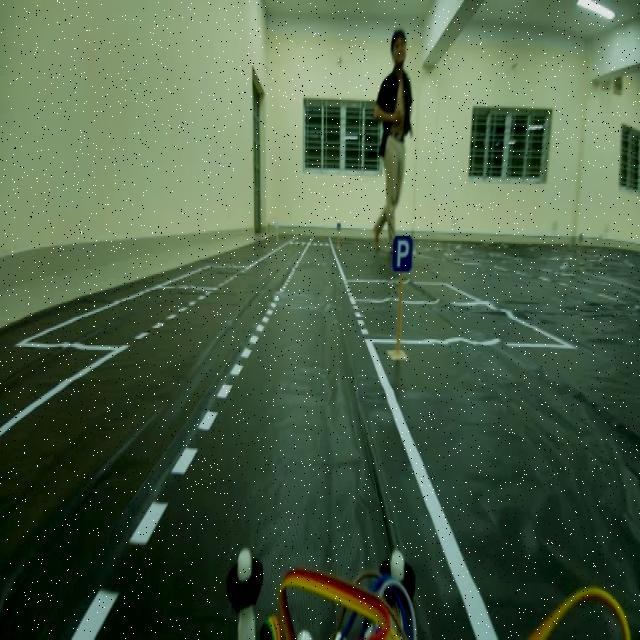parking: (389, 226, 414, 273)
